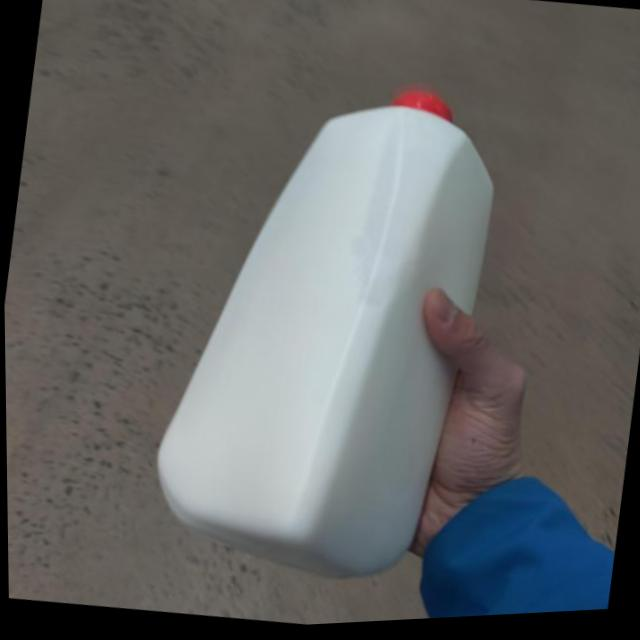Milk: (114, 40, 547, 613)
